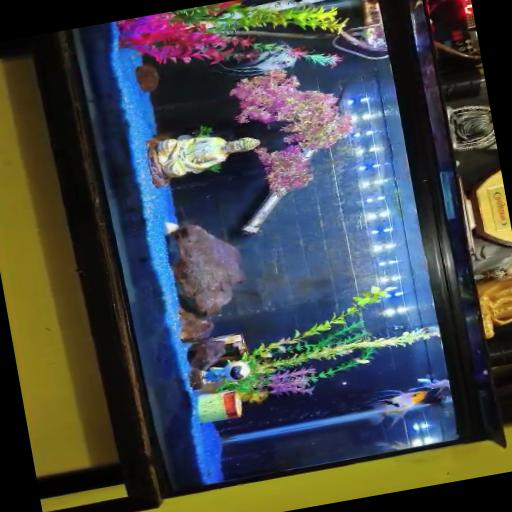Fish: (215, 43, 295, 75), (369, 389, 427, 425), (407, 377, 449, 393), (375, 440, 410, 450)
